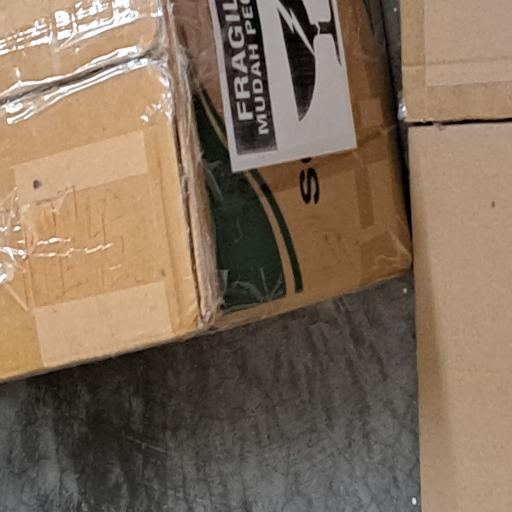cardboard: (93, 0, 384, 512)
